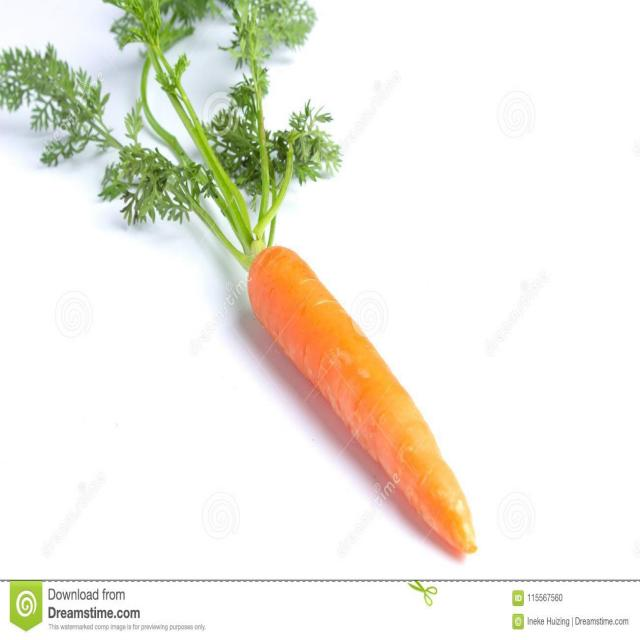Carrot: (248, 242, 478, 560)
